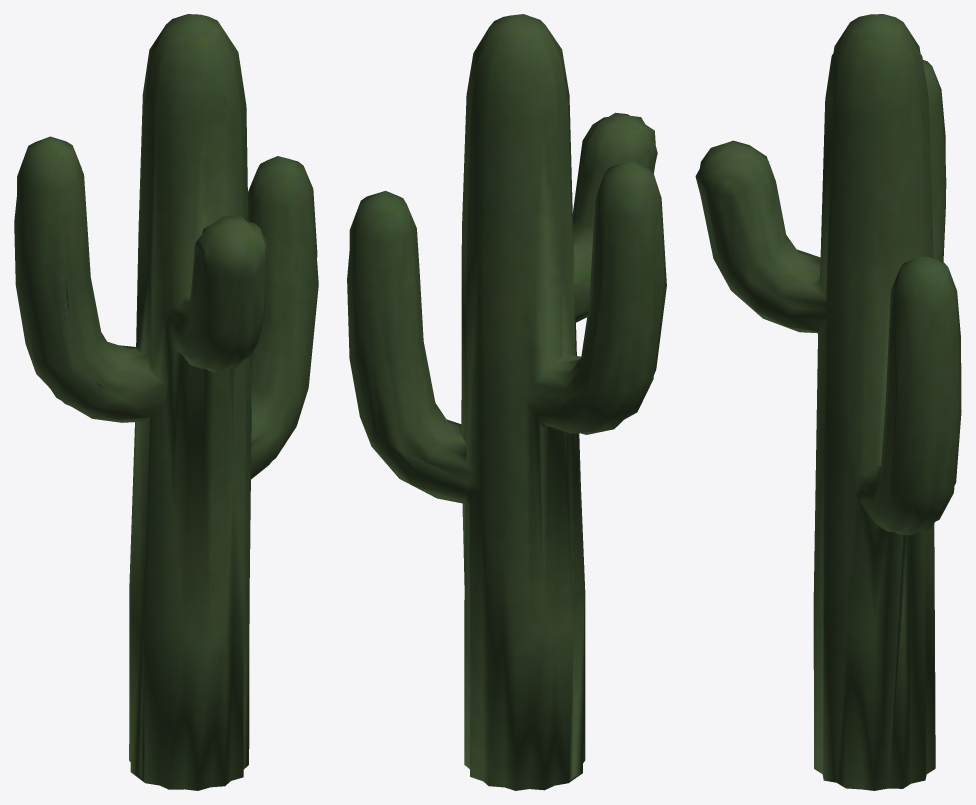
The model's file is cactus_lod1.glb.
3 views of the same model, side by side, from view 1: azimuth 30°, elevation 25°; view 2: azimuth 150°, elevation 25°; view 3: azimuth 270°, elevation 25° (orthographic).
Parts seen in each view (by area): view 1: cactus_lod1; view 2: cactus_lod1; view 3: cactus_lod1.
Boxes of the visible parts, x1,y1,x2,y2 form: cactus_lod1: (14, 14, 318, 790); cactus_lod1: (347, 14, 666, 790); cactus_lod1: (695, 14, 961, 790).
Bounding box in the file's own units: 1.53 × 3.62 × 1.16.
Materials: 1 (1 with a texture image).
